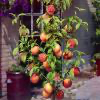Peach leaf: (12, 46, 19, 57), (28, 68, 34, 80), (61, 28, 68, 38), (20, 54, 26, 65), (45, 33, 53, 41), (69, 68, 74, 80), (50, 70, 55, 81), (17, 13, 28, 18), (65, 60, 74, 66), (35, 17, 42, 24), (76, 58, 81, 67), (54, 32, 63, 37), (67, 21, 71, 32), (45, 18, 51, 25), (75, 22, 81, 29), (64, 47, 69, 55), (52, 55, 56, 64), (25, 28, 30, 35), (40, 47, 45, 54), (50, 61, 54, 69), (53, 41, 57, 49), (31, 41, 35, 48)
